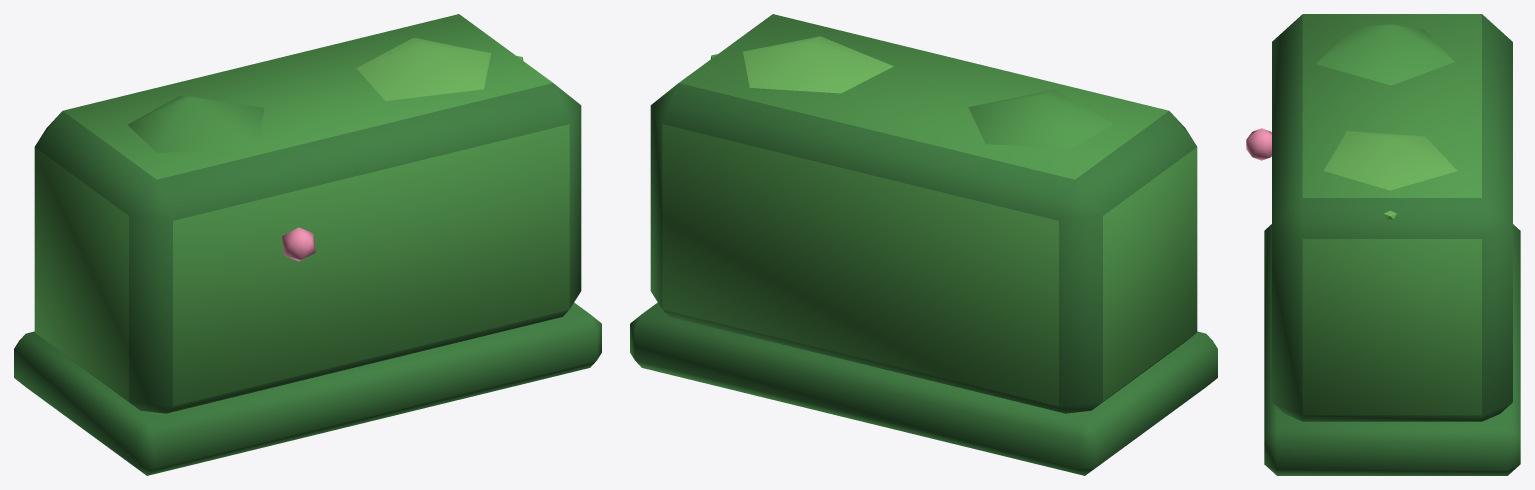
The model's file is dash_hedge.glb.
The picture shows the model from 3 angles, left to right: view 1: azimuth 30°, elevation 25°; view 2: azimuth 150°, elevation 25°; view 3: azimuth 270°, elevation 25°; orthographic projection. The views are drawn at different scales.
Visible parts, largest first — view 1: dash_hedge; view 2: dash_hedge; view 3: dash_hedge.
Boxes of the visible parts, <box> form: dash_hedge: <box>14,14,601,475</box>; dash_hedge: <box>630,14,1217,475</box>; dash_hedge: <box>1246,14,1520,475</box>.
Size of the model in its own units: 2 by 1.27 by 1.07.
